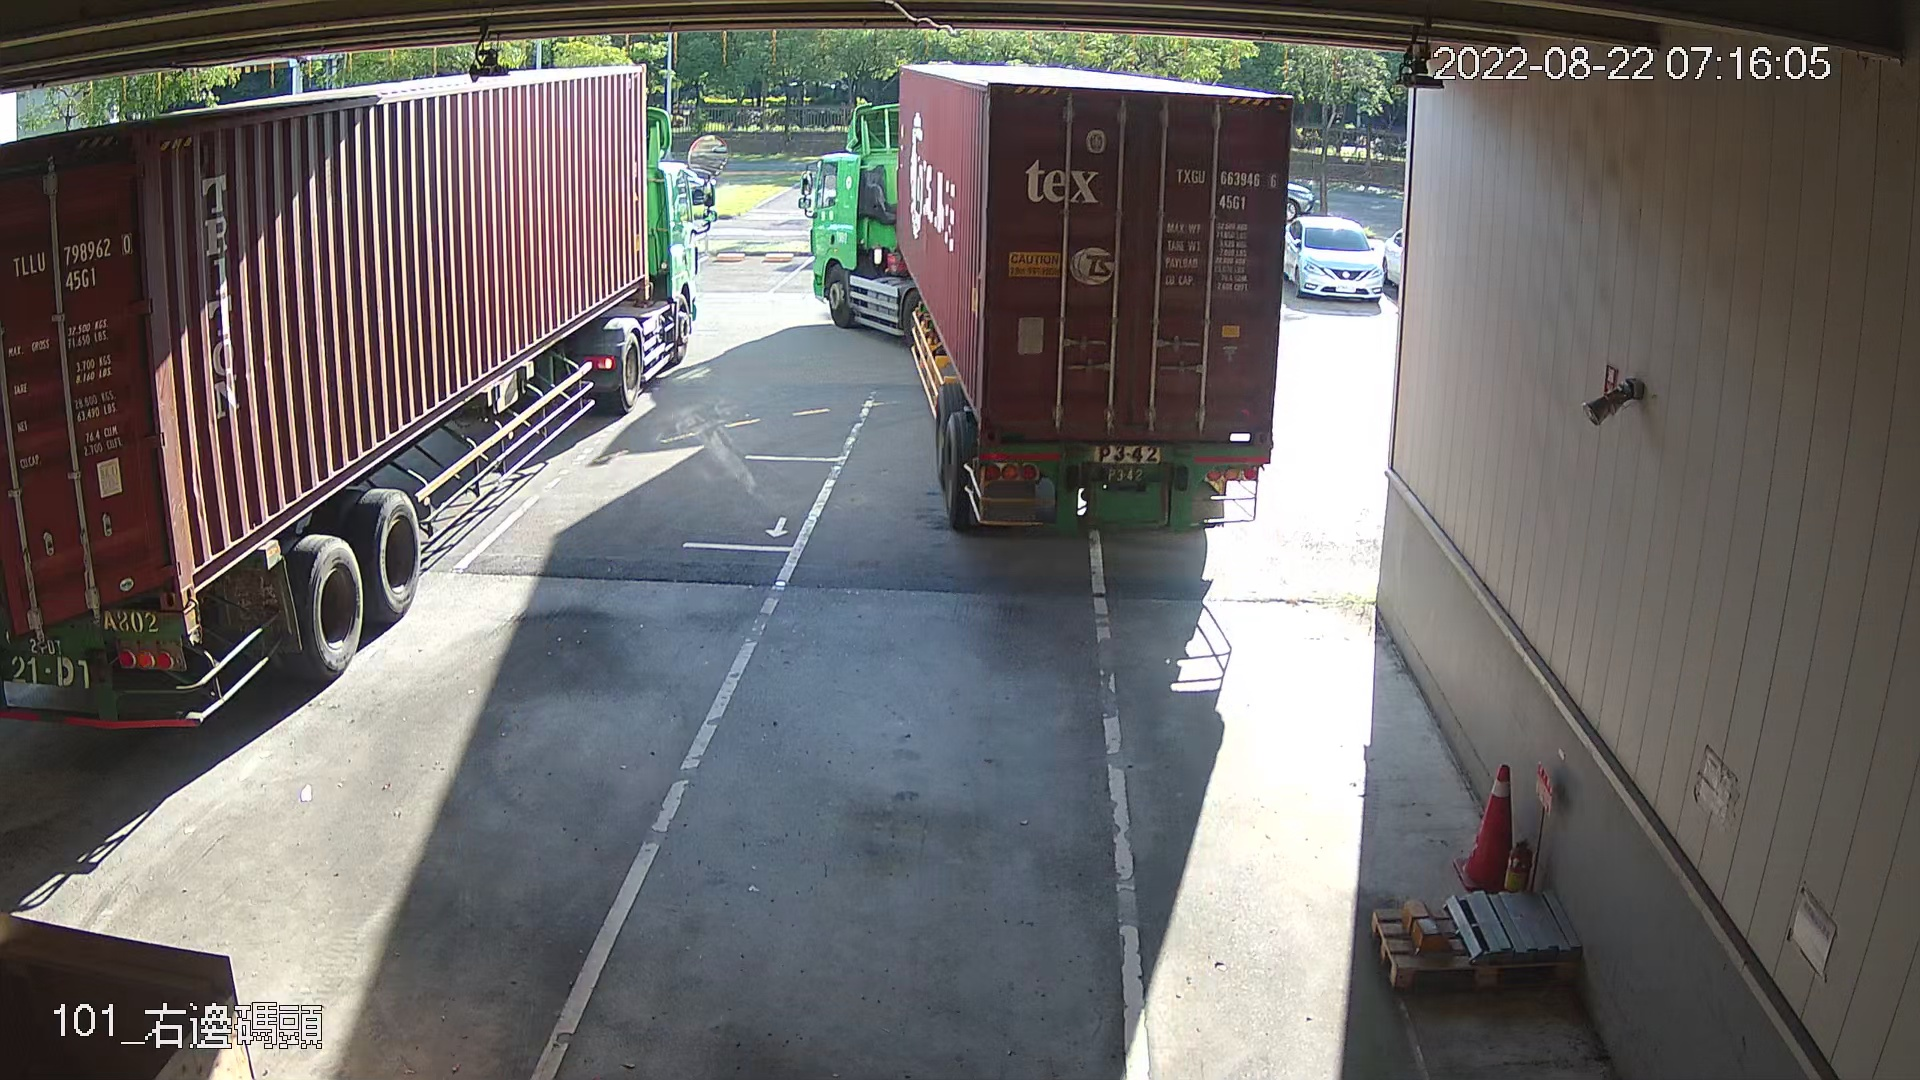container: (1172, 158, 1284, 216)
